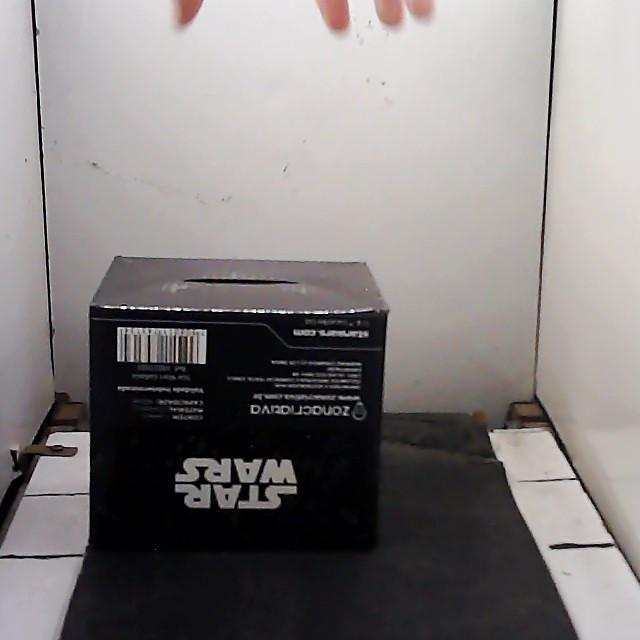papel: (89, 257, 387, 550)
